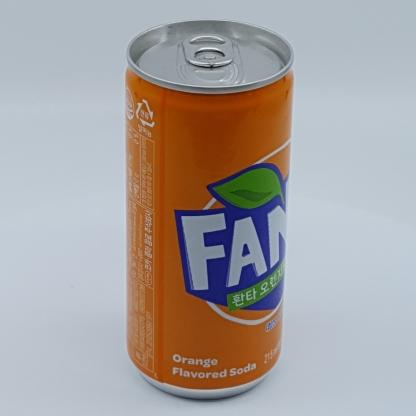-------215ML: (125, 19, 294, 399)
